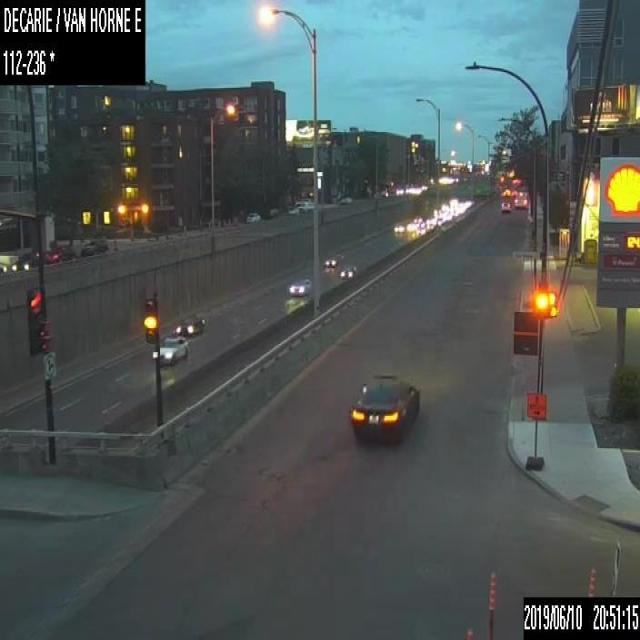construction: (524, 391, 546, 468), (486, 570, 494, 638), (586, 565, 596, 596), (463, 625, 472, 639)
vehicle: (347, 372, 420, 440), (152, 335, 188, 365), (10, 249, 39, 272), (172, 317, 205, 337), (44, 245, 75, 264), (80, 238, 108, 255), (288, 277, 310, 295), (339, 264, 356, 277), (514, 190, 526, 207), (324, 253, 336, 267), (245, 211, 260, 222), (298, 200, 312, 211), (500, 200, 511, 212), (393, 222, 403, 233), (341, 196, 352, 202), (0, 262, 6, 273)
